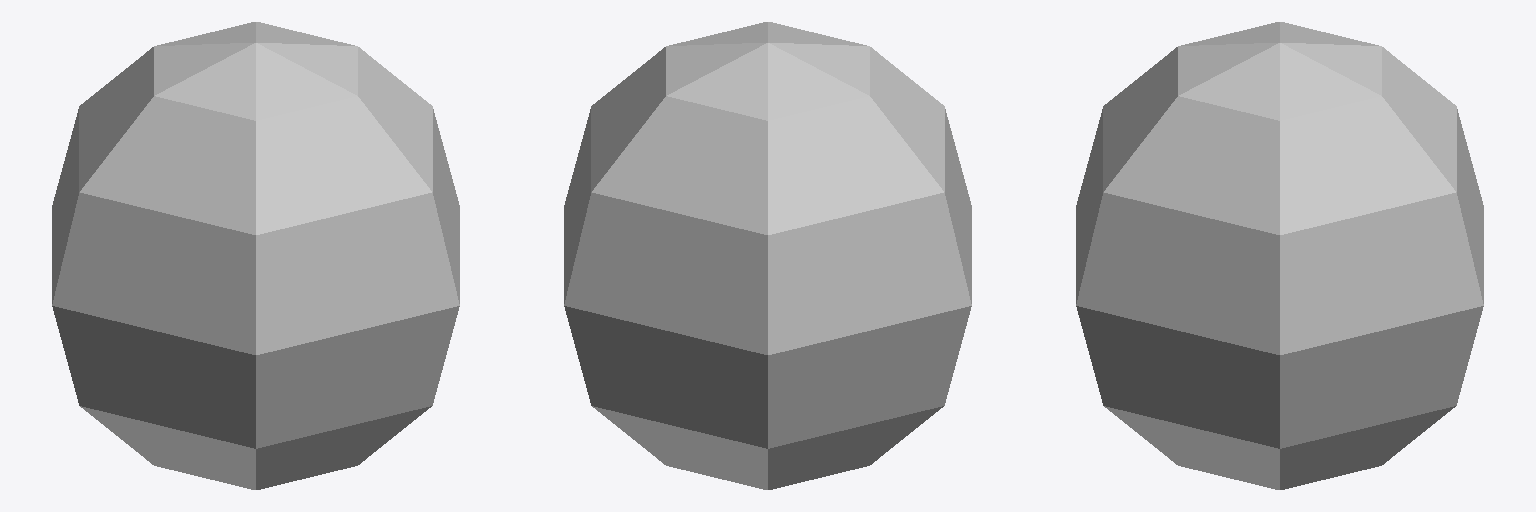
File: SphereLowRes.obj
3 views of the same model, side by side, from view 1: azimuth 30°, elevation 25°; view 2: azimuth 150°, elevation 25°; view 3: azimuth 270°, elevation 25° (orthographic).
Parts seen in each view (by area): view 1: sphere; view 2: sphere; view 3: sphere.
Part boxes in pixels (x1,y1,x2,y2): sphere: (52, 22, 459, 489); sphere: (564, 22, 971, 489); sphere: (1076, 22, 1483, 489).
Bounding box in the file's own units: 1 × 1 × 0.866.